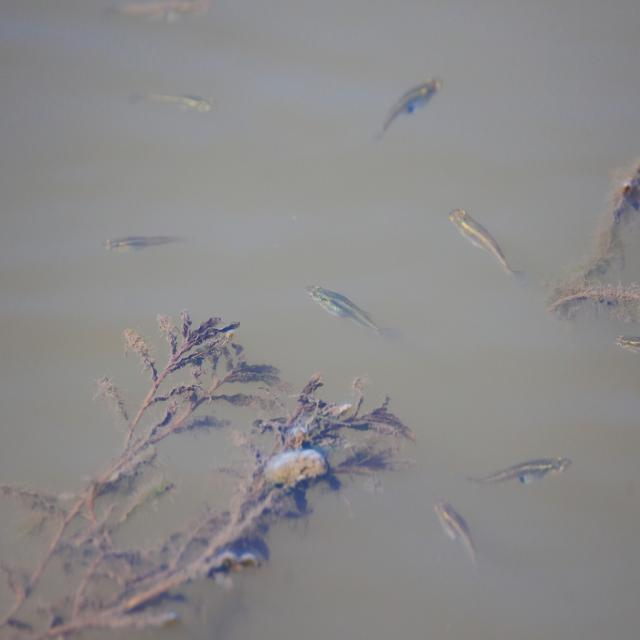Sivrisinek Baligi: (450, 203, 524, 281), (375, 70, 441, 138), (310, 280, 386, 336), (462, 451, 565, 487), (131, 76, 221, 116), (430, 501, 478, 565), (104, 230, 190, 258), (612, 326, 639, 363)
